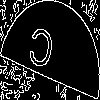C: (25, 25, 56, 80)
